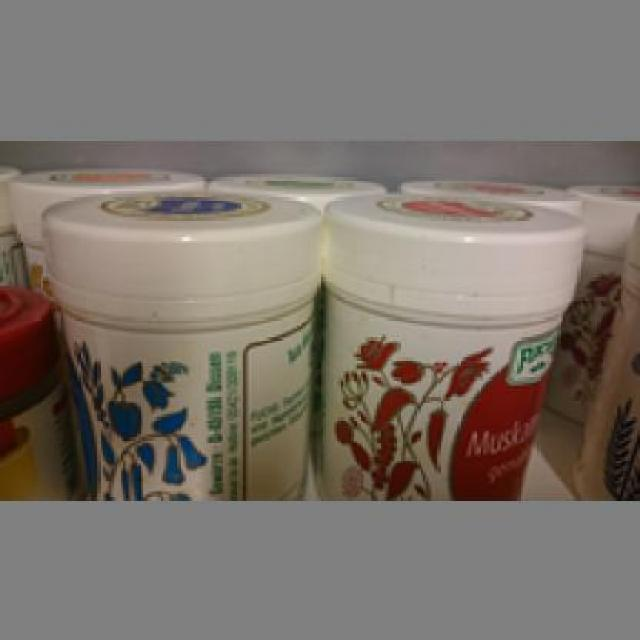Spices: (37, 186, 320, 494), (320, 188, 583, 494)
